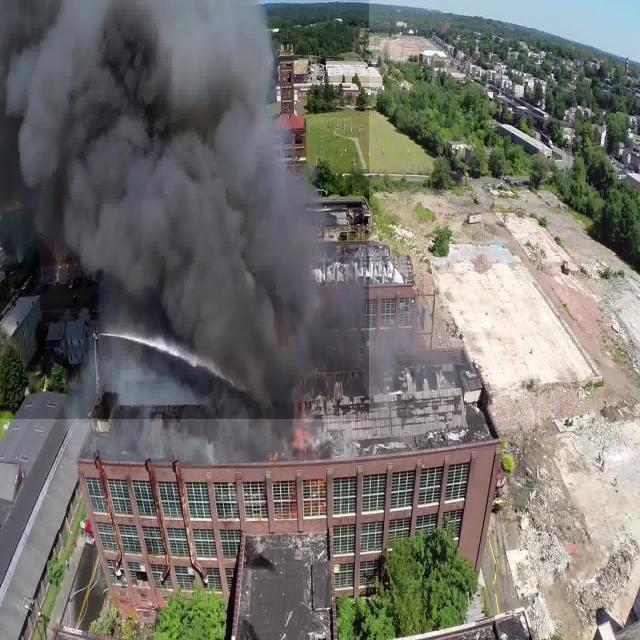Smoke: (0, 0, 369, 419)
